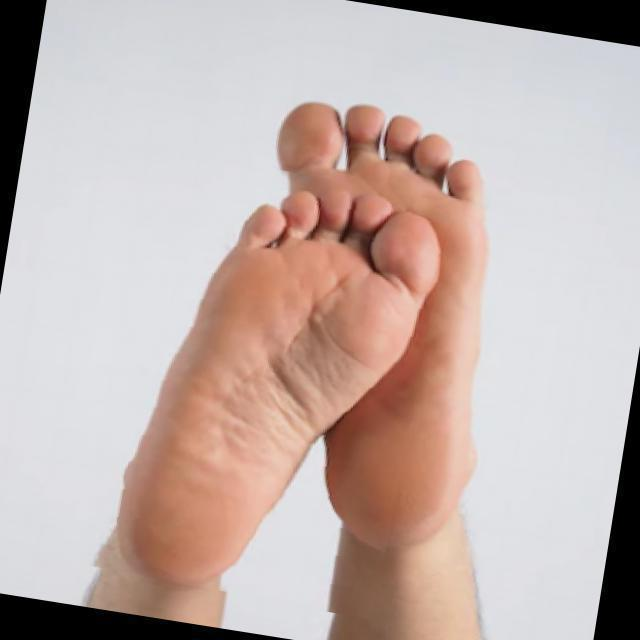No_Shoes: (270, 60, 495, 549), (122, 169, 384, 577)
